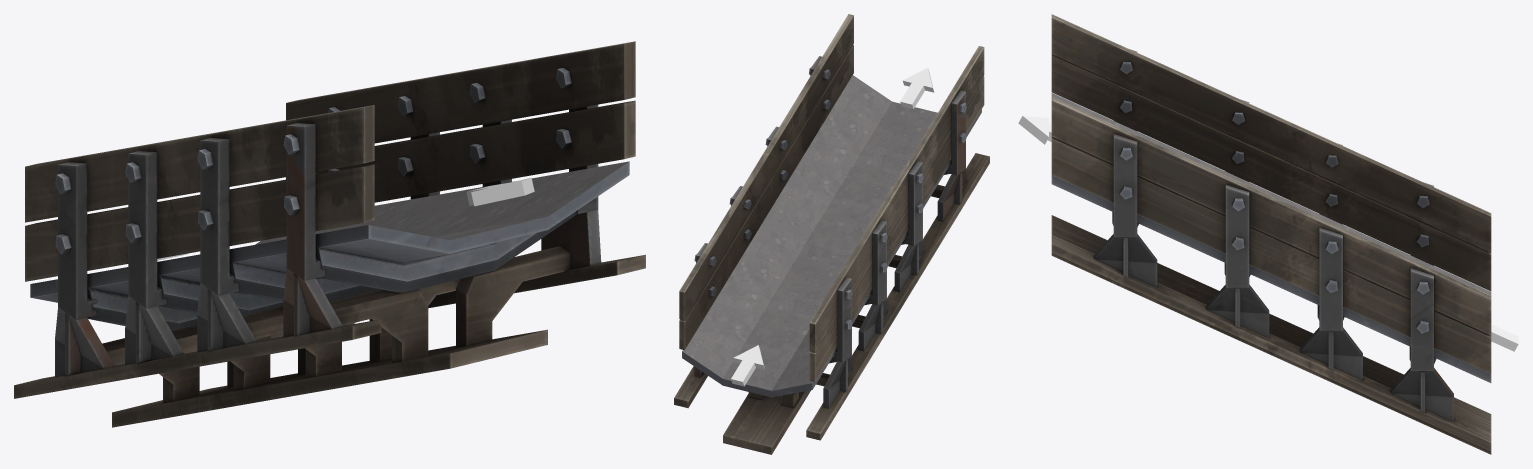
The model's file is WallConveyor_Up.glb.
3 views of the same model, side by side, from view 1: azimuth 30°, elevation 25°; view 2: azimuth 150°, elevation 25°; view 3: azimuth 270°, elevation 25° (orthographic). The views are drawn at different scales.
Parts seen in each view (by area): view 1: WallConveyor_Up, ghostarrow; view 2: WallConveyor_Up, ghostarrow (1), ghostarrow; view 3: WallConveyor_Up, ghostarrow.
Boxes of the visible parts, x1,y1,x2,y2 form: WallConveyor_Up: [14, 41, 645, 427]; ghostarrow: [466, 177, 534, 206]; WallConveyor_Up: [674, 14, 989, 454]; ghostarrow (1): [731, 345, 764, 386]; ghostarrow: [900, 67, 934, 109]; WallConveyor_Up: [1051, 14, 1491, 454]; ghostarrow: [1018, 115, 1051, 144].
Bounding box in the file's own units: 1.04 × 1.92 × 2.28.
3 materials, 2 textured.
